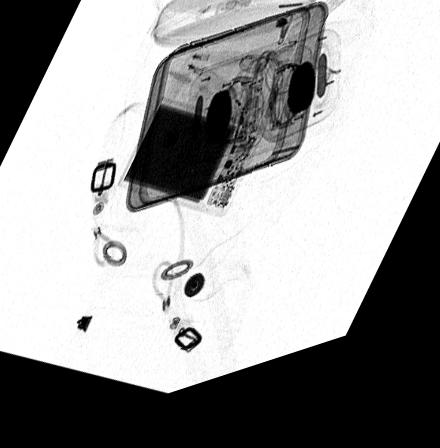Powerbank: (115, 106, 265, 232)
